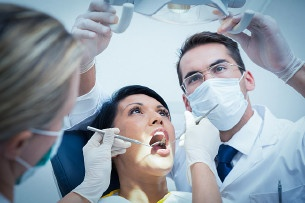Mask: (180, 58, 248, 126)
